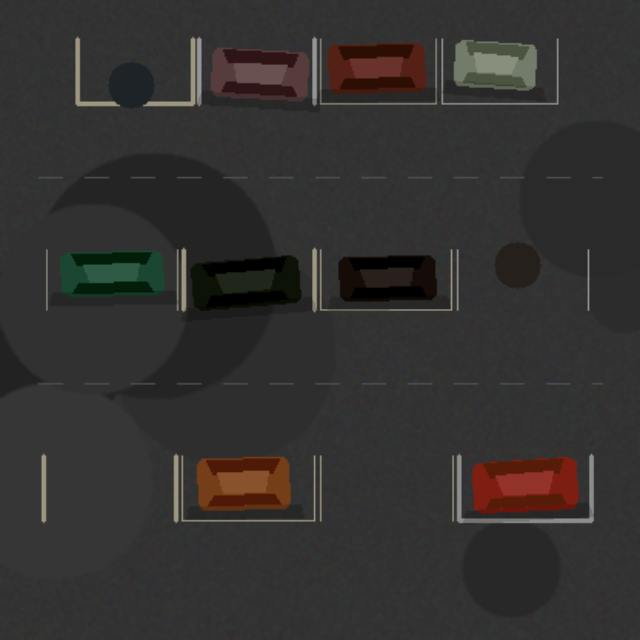space-empty: (43, 455, 175, 520), (320, 455, 452, 520), (457, 249, 588, 309), (77, 38, 192, 103)
space-occupied: (458, 455, 591, 520), (182, 455, 314, 520), (46, 249, 177, 309), (183, 249, 314, 309), (320, 249, 451, 309), (198, 38, 314, 103), (320, 38, 435, 103), (442, 38, 557, 103)
